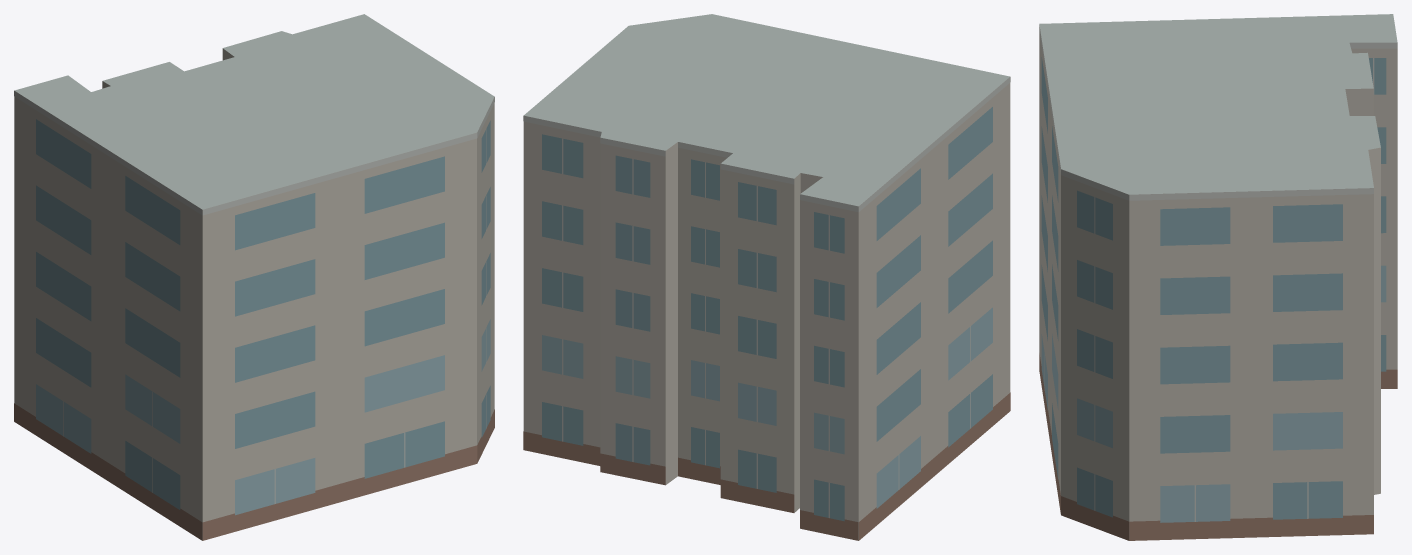
Rendered from survey-upis-32740686.glb.
3 renders of one model, left to right at view 1: azimuth 30°, elevation 25°; view 2: azimuth 150°, elevation 25°; view 3: azimuth 270°, elevation 25°, orthographic. The views are drawn at different scales.
Parts seen in each view (by area): view 1: survey-upis-32740686.tmp; view 2: survey-upis-32740686.tmp; view 3: survey-upis-32740686.tmp.
Boxes of the visible parts, x1,y1,x2,y2 form: survey-upis-32740686.tmp: (14, 14, 494, 540); survey-upis-32740686.tmp: (523, 14, 1010, 540); survey-upis-32740686.tmp: (1039, 14, 1397, 540).
Bounding box in the file's own units: 15.57 × 13.9 × 13.05.
